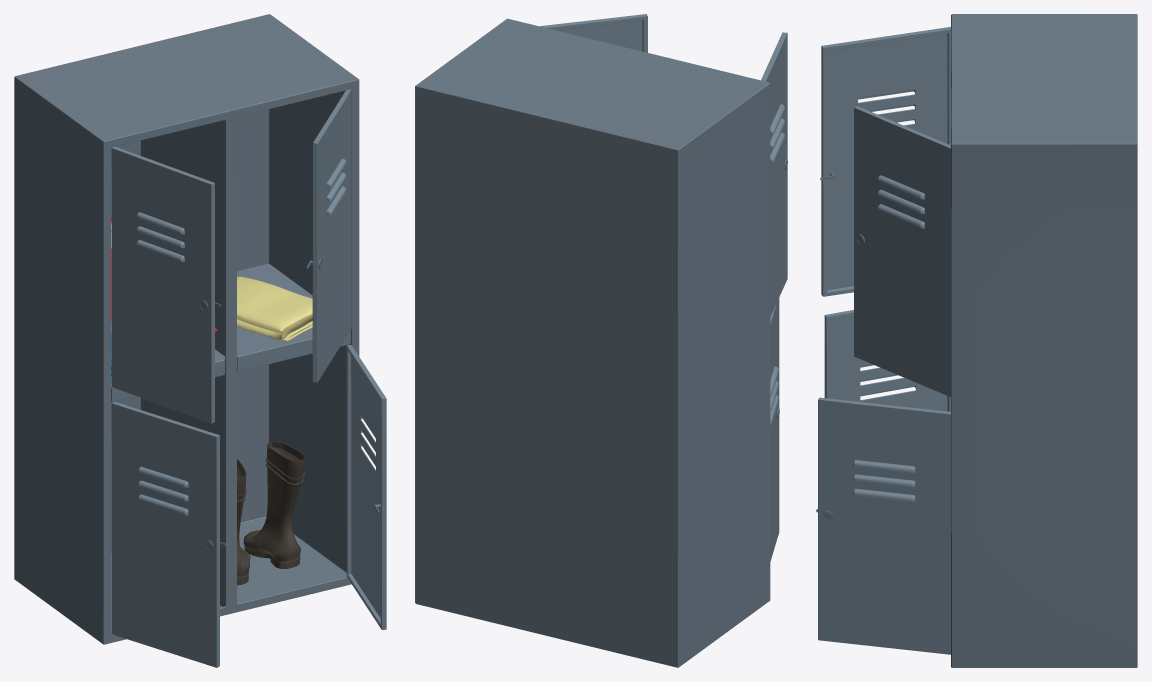
The model's file is SM_Locker_OpenFixed_Pop_V02.fbx.
The picture shows the model from 3 angles, left to right: view 1: azimuth 30°, elevation 25°; view 2: azimuth 150°, elevation 25°; view 3: azimuth 270°, elevation 25°; orthographic projection. The views are drawn at different scales.
Visible parts, largest first — view 1: SM_Locker_OpenFixed_Pop_V02; view 2: SM_Locker_OpenFixed_Pop_V02; view 3: SM_Locker_OpenFixed_Pop_V02.
Part boxes in pixels (left/top/right/bottom): SM_Locker_OpenFixed_Pop_V02: left=14, top=14, right=386, bottom=667; SM_Locker_OpenFixed_Pop_V02: left=415, top=14, right=787, bottom=667; SM_Locker_OpenFixed_Pop_V02: left=816, top=14, right=1137, bottom=667.
Size of the model in its own units: 115 by 215 by 120.
